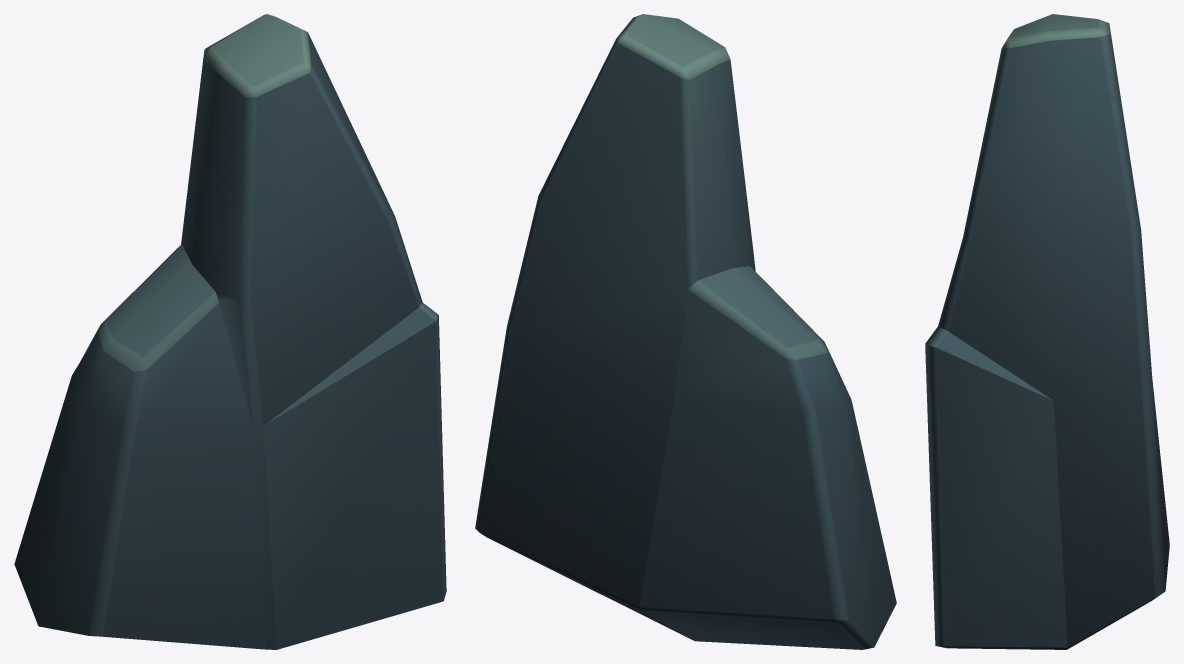
File: rock_32.fbx
3 views of the same model, side by side, from view 1: azimuth 30°, elevation 25°; view 2: azimuth 150°, elevation 25°; view 3: azimuth 270°, elevation 25° (orthographic). The views are drawn at different scales.
Parts seen in each view (by area): view 1: rock_32; view 2: rock_32; view 3: rock_32.
Boxes of the visible parts, left/top/right/bottom form: rock_32: left=14, top=14, right=446, bottom=649; rock_32: left=475, top=14, right=896, bottom=649; rock_32: left=925, top=14, right=1169, bottom=649.
Size of the model in its own units: 487 by 748 by 272.
